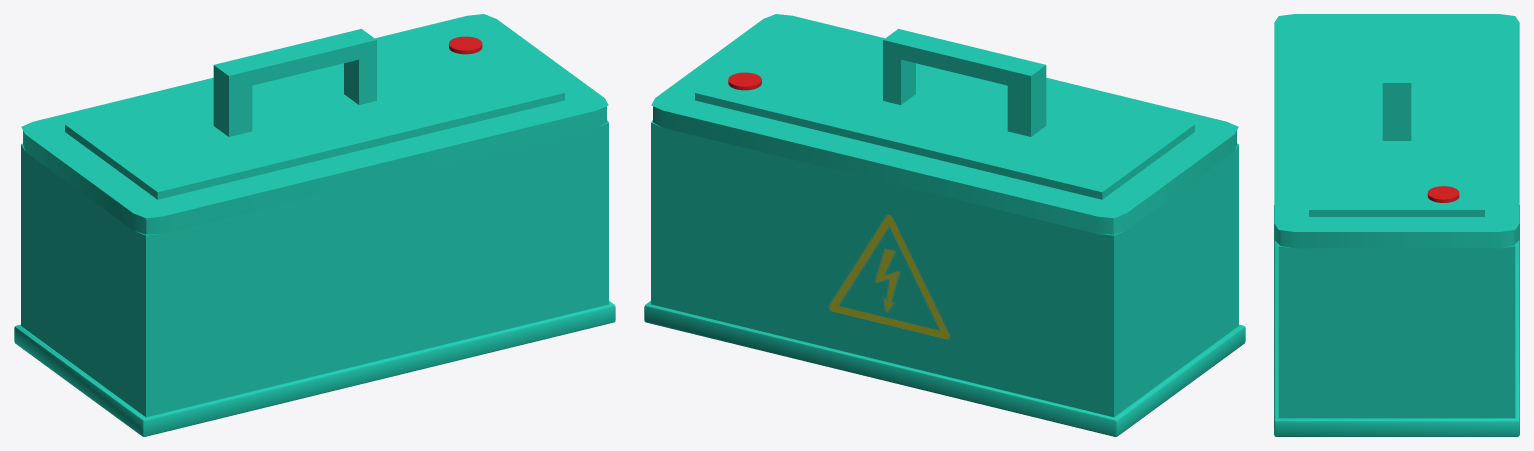
File: FuelCan_WithIm.fbx
3 views of the same model, side by side, from view 1: azimuth 30°, elevation 25°; view 2: azimuth 150°, elevation 25°; view 3: azimuth 270°, elevation 25° (orthographic). The views are drawn at different scales.
Parts seen in each view (by area): view 1: Cube; view 2: Cube; view 3: Cube, Button.
Boxes of the visible parts, x1,y1,x2,y2 form: Cube: (14, 14, 615, 436); Cube: (644, 14, 1245, 436); Cube: (1274, 14, 1519, 436); Button: (1427, 186, 1459, 202).
Bounding box in the file's own units: 315 × 182 × 150.
